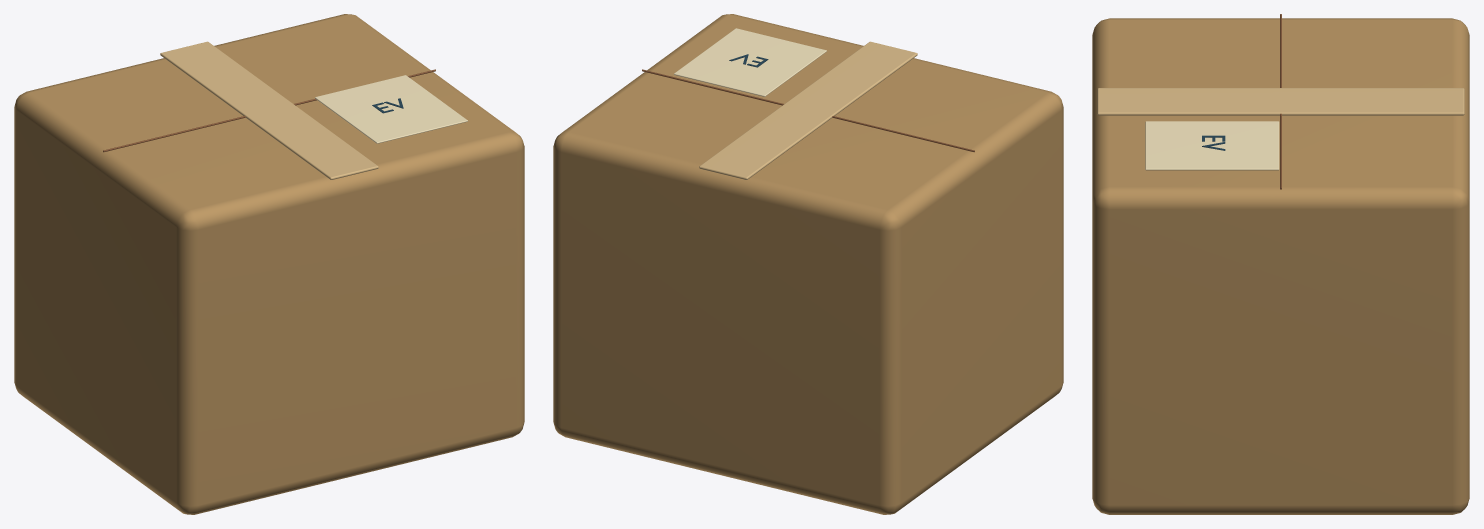
File: Parcel.fbx
The picture shows the model from 3 angles, left to right: view 1: azimuth 30°, elevation 25°; view 2: azimuth 150°, elevation 25°; view 3: azimuth 270°, elevation 25°; orthographic projection. The views are drawn at different scales.
Visible parts, largest first — view 1: Surface_KKTC_Willow, Surface_KKTC_Webbing, Surface_KKTC_Paper; view 2: Surface_KKTC_Willow, Surface_KKTC_Webbing, Surface_KKTC_Paper, Surface_KKTC_Wood; view 3: Surface_KKTC_Willow, Surface_KKTC_Webbing, Surface_KKTC_Paper.
Part boxes in pixels (x1=…): Surface_KKTC_Willow: x1=14, y1=14, x2=524, y2=514; Surface_KKTC_Webbing: x1=160, y1=41, x2=378, y2=179; Surface_KKTC_Paper: x1=315, y1=75, x2=467, y2=143; Surface_KKTC_Willow: x1=553, y1=14, x2=1063, y2=514; Surface_KKTC_Webbing: x1=699, y1=41, x2=917, y2=179; Surface_KKTC_Paper: x1=674, y1=28, x2=826, y2=96; Surface_KKTC_Wood: x1=642, y1=69, x2=974, y2=152; Surface_KKTC_Willow: x1=1092, y1=18, x2=1469, y2=514; Surface_KKTC_Webbing: x1=1097, y1=88, x2=1464, y2=115; Surface_KKTC_Paper: x1=1145, y1=121, x2=1279, y2=170.
Size of the model in its own units: 25 by 21.52 by 22.
